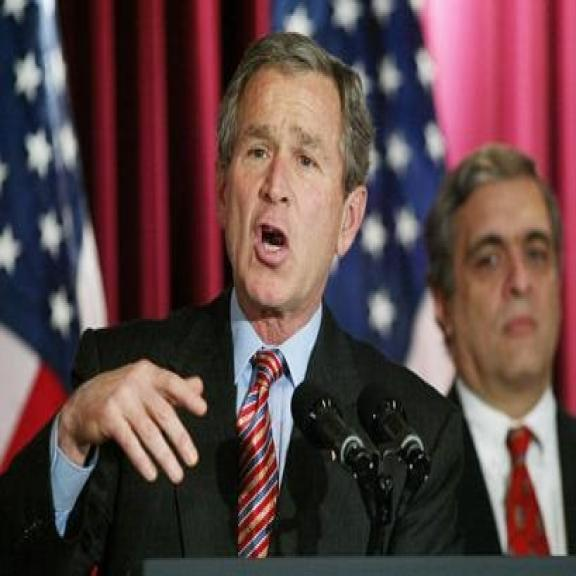face: (215, 61, 371, 312), (429, 181, 560, 382)
